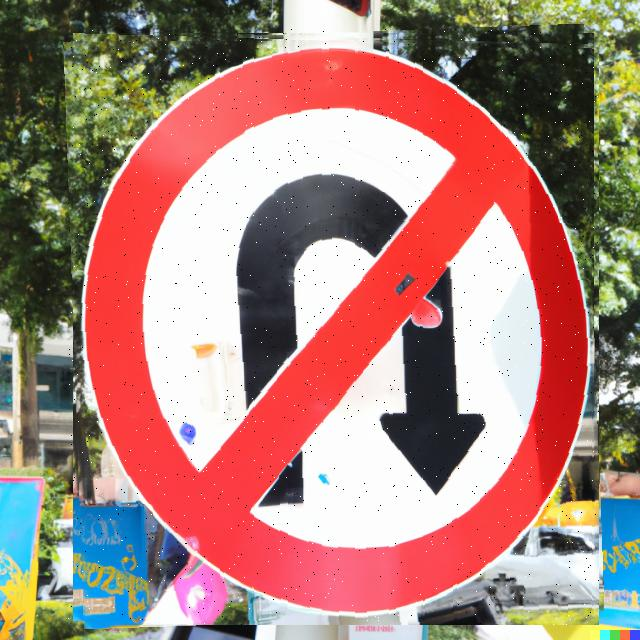no u turn: (68, 29, 599, 625)
